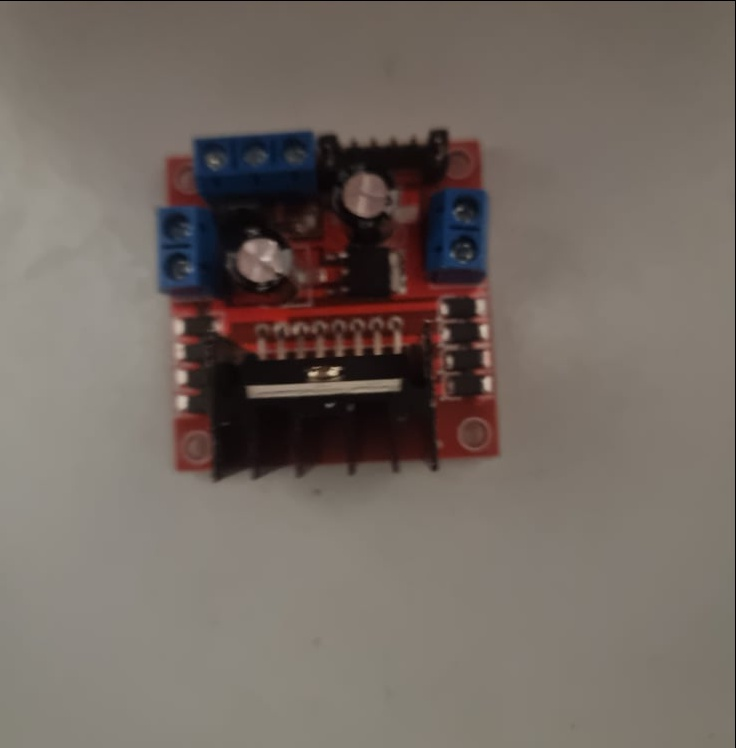MOTOR: (150, 124, 502, 482)
